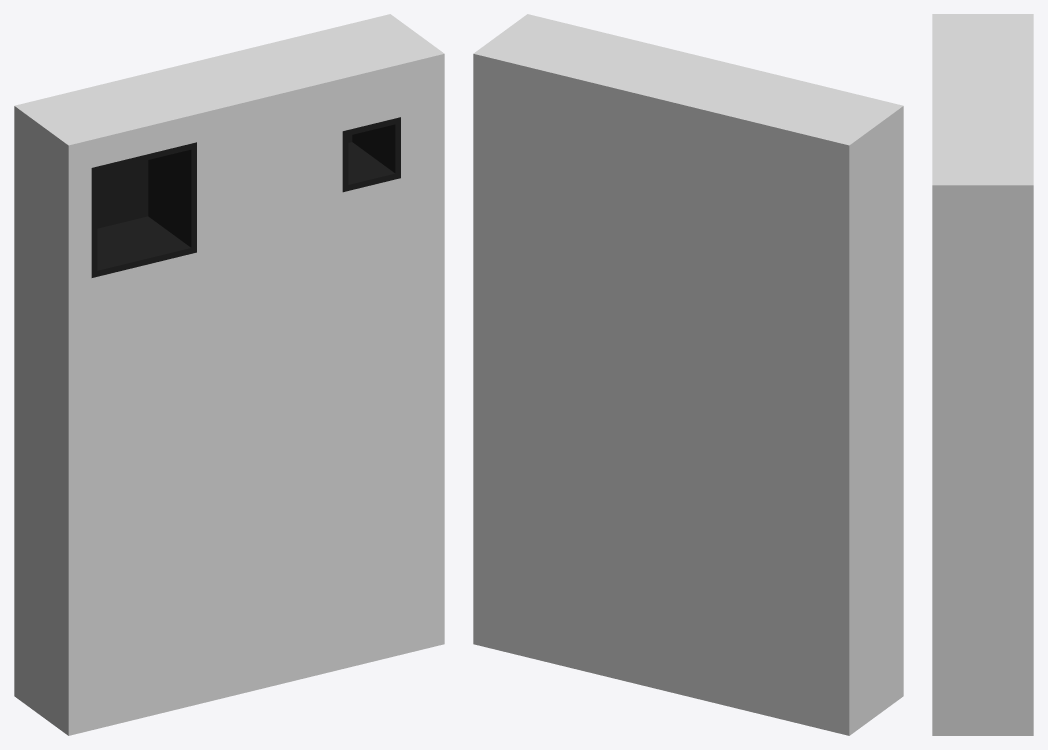
Rendered from placard_2022.dae.
3 renders of one model, left to right at view 1: azimuth 30°, elevation 25°; view 2: azimuth 150°, elevation 25°; view 3: azimuth 270°, elevation 25°, orthographic. The views are drawn at different scales.
Visible parts, largest first — view 1: Box001; view 2: Box001; view 3: Box001.
Boxes of the visible parts, box(x1,y1,x2,y2) form: Box001: box(14, 14, 444, 735); Box001: box(473, 14, 903, 735); Box001: box(932, 14, 1033, 735).
Bounding box in the file's own units: 200 × 50 × 300.
